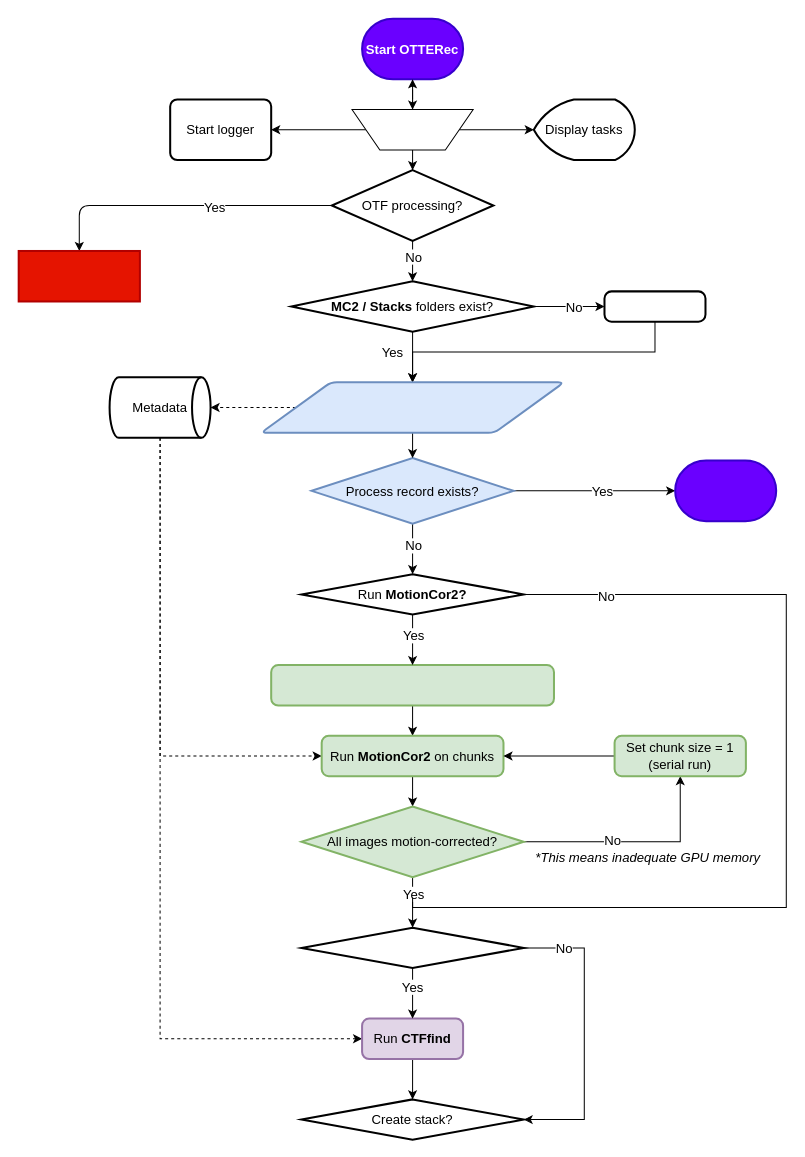
Some shapes in this 805 by 1157 pixel diagram are drawn without their labels. The centre of each missing label's shape, as x and y in pixels:
"Assign subprocess chunks to GPUs (# images per GPU)" goes at (412,685).
"Collect & clean raw files (TIFF/mrc)" goes at (412,407).
"Create folders" goes at (654,306).
"End OTTERec" goes at (725,490).
"OTF module which doesn't work..." goes at (78,275).
"Read YAML" goes at (412,129).
"Run CTFfind?" goes at (412,947).
